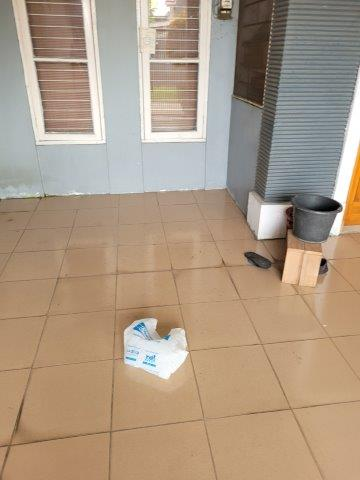plastik: (123, 318, 189, 380)
